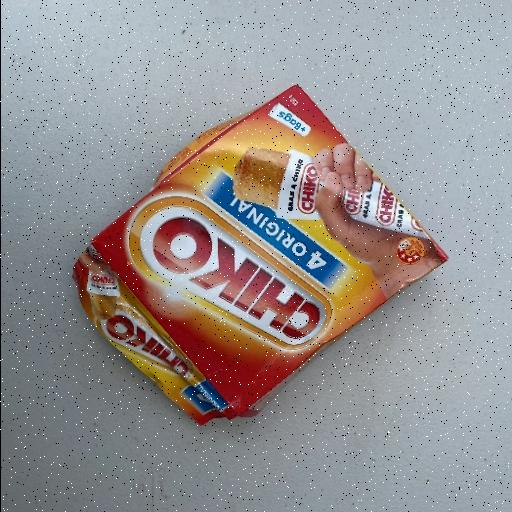Cardboard: (70, 82, 450, 428)
